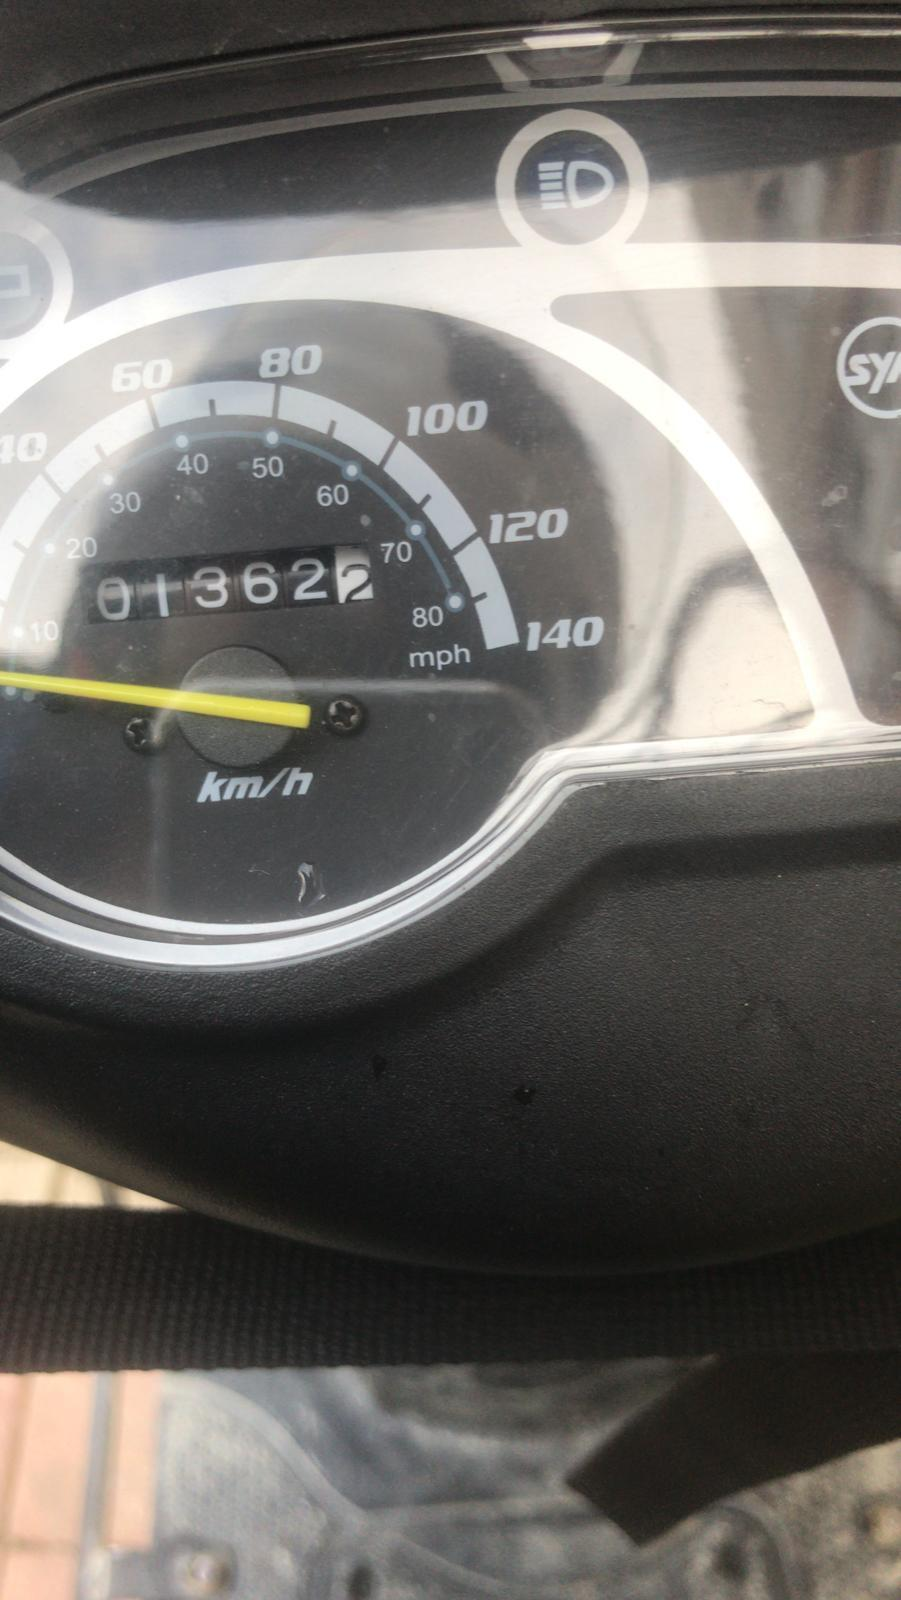0: (92, 573, 136, 624), (82, 533, 101, 562)
1: (151, 562, 175, 622)
2: (288, 552, 329, 608), (340, 558, 378, 612)
3: (189, 562, 233, 611)
6: (240, 554, 279, 611)
7: (382, 538, 394, 562)
odometer: (77, 542, 394, 632)
